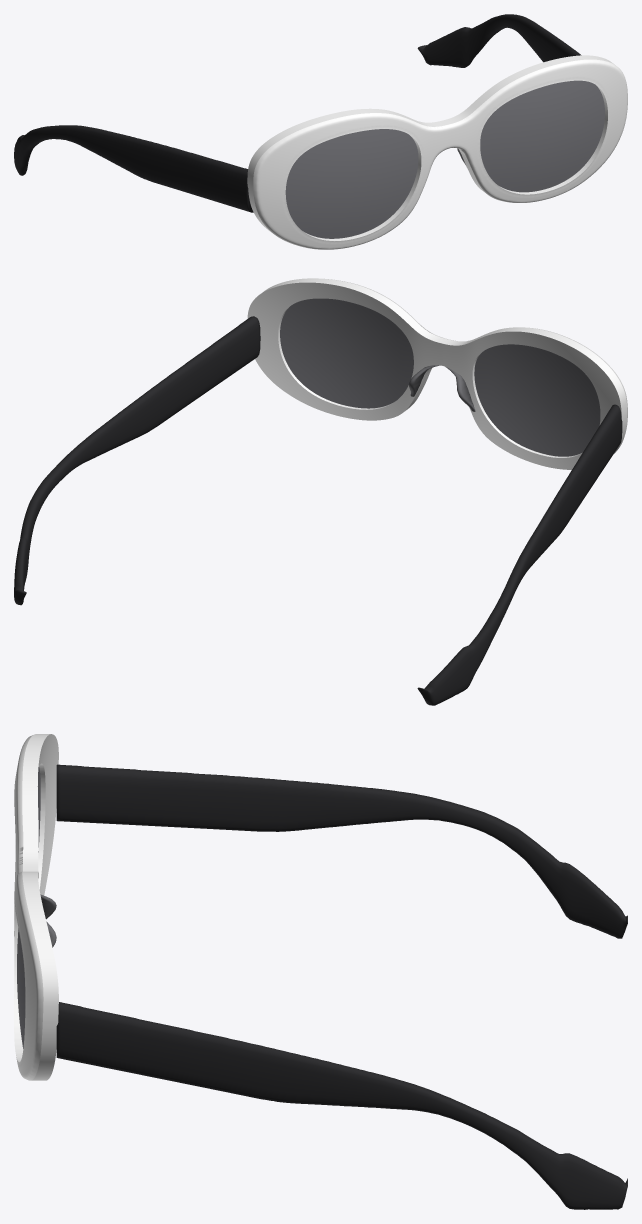
3 renders of one model, top to bottom at view 1: azimuth 30°, elevation 25°; view 2: azimuth 150°, elevation 25°; view 3: azimuth 270°, elevation 25°, orthographic. The views are drawn at different scales.
Parts seen in each view (by area): view 1: Front, Lens_L, Lens_R, Temple_L, Temple_R; view 2: Front, Lens_R, Lens_L, Temple_R, Temple_L; view 3: Temple_L, Temple_R, Front, Lens_R.
Part boxes in pixels (<box>): Front: <box>247,55,627,249</box>; Lens_L: <box>285,129,418,238</box>; Lens_R: <box>480,80,604,192</box>; Temple_L: <box>14,125,253,212</box>; Temple_R: <box>417,14,581,67</box>; Front: <box>247,278,627,469</box>; Lens_R: <box>280,298,413,408</box>; Lens_L: <box>474,344,600,456</box>; Temple_R: <box>14,316,260,605</box>; Temple_L: <box>417,404,622,705</box>; Temple_L: <box>56,764,627,938</box>; Temple_R: <box>56,1002,627,1209</box>; Front: <box>14,734,58,1080</box>; Lens_R: <box>17,928,25,1048</box>.
Size of the model in its own units: 0.1799 by 0.0681 by 0.1518.
5 materials, 1 textured.
